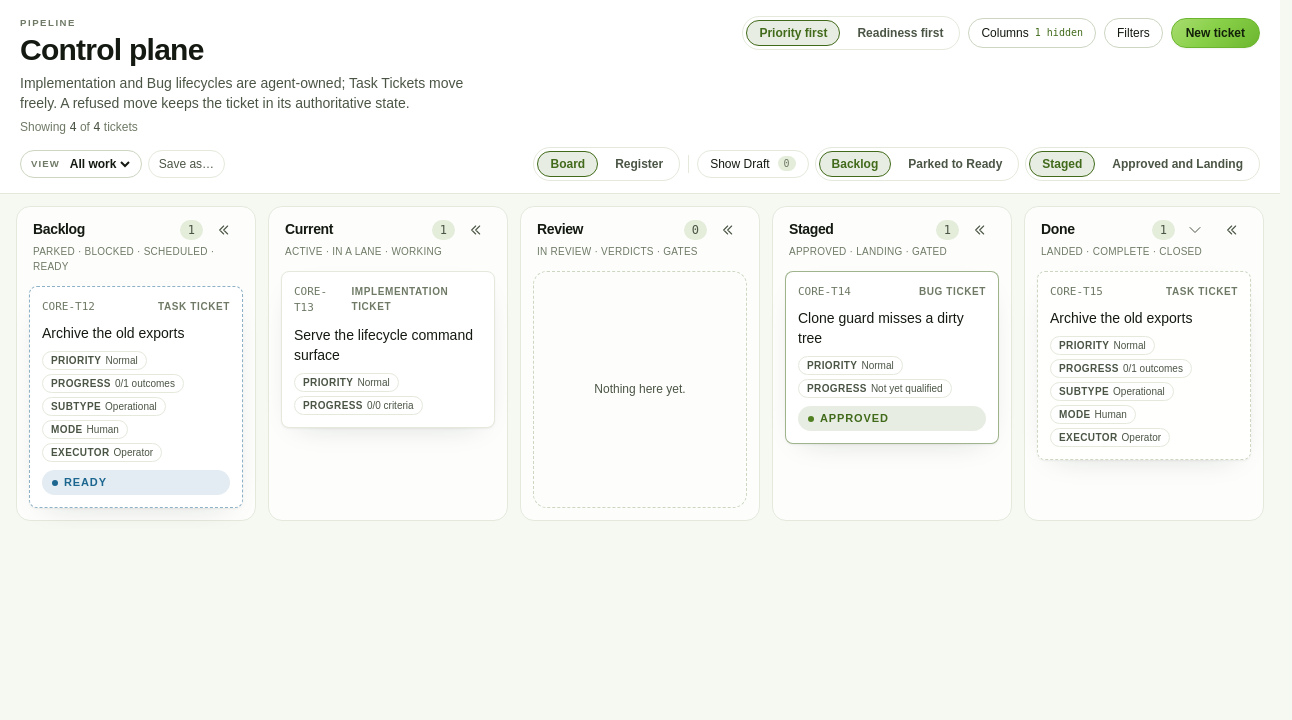
Scenario: the board › names expanded states under their group in the register
The image size is (1292, 720).
Click the button with test id "layout-axis-backlog-expanded" at (955, 164), box [895,151,1015,177]
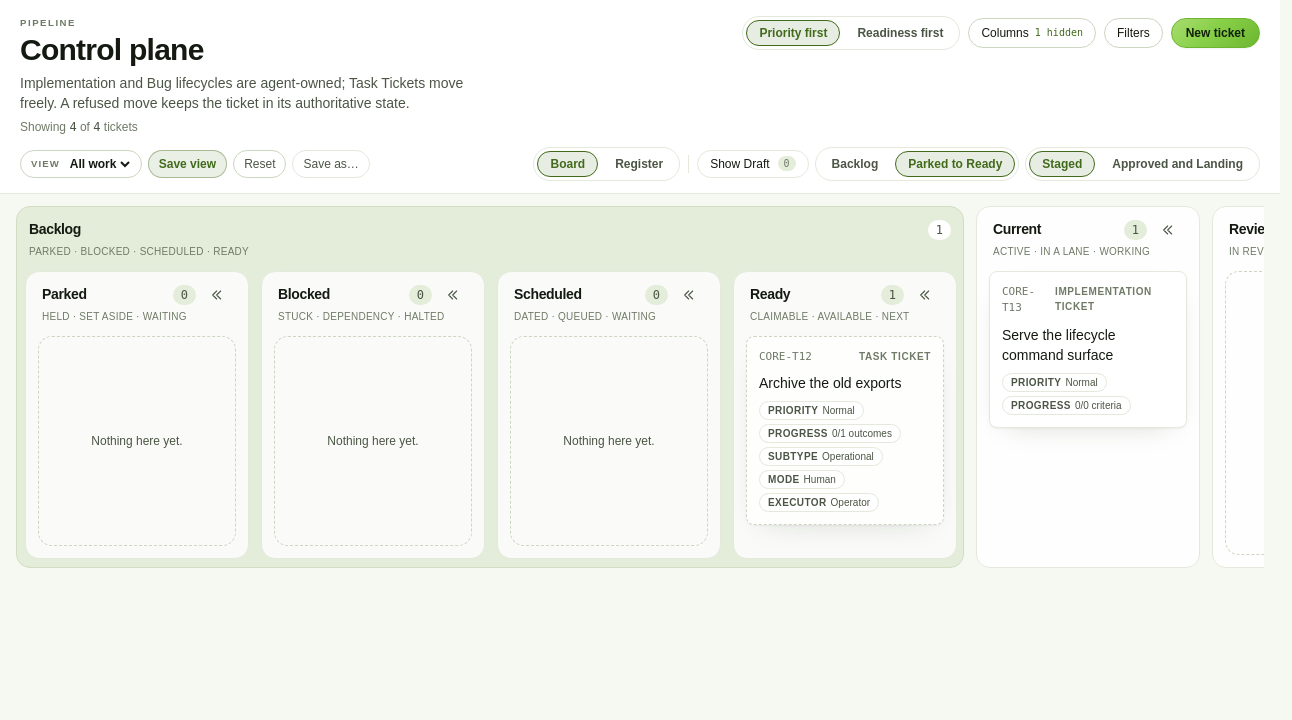
Click the button with test id "board-presentation-register" at (639, 164), box [602,151,676,177]
(page scrolled)
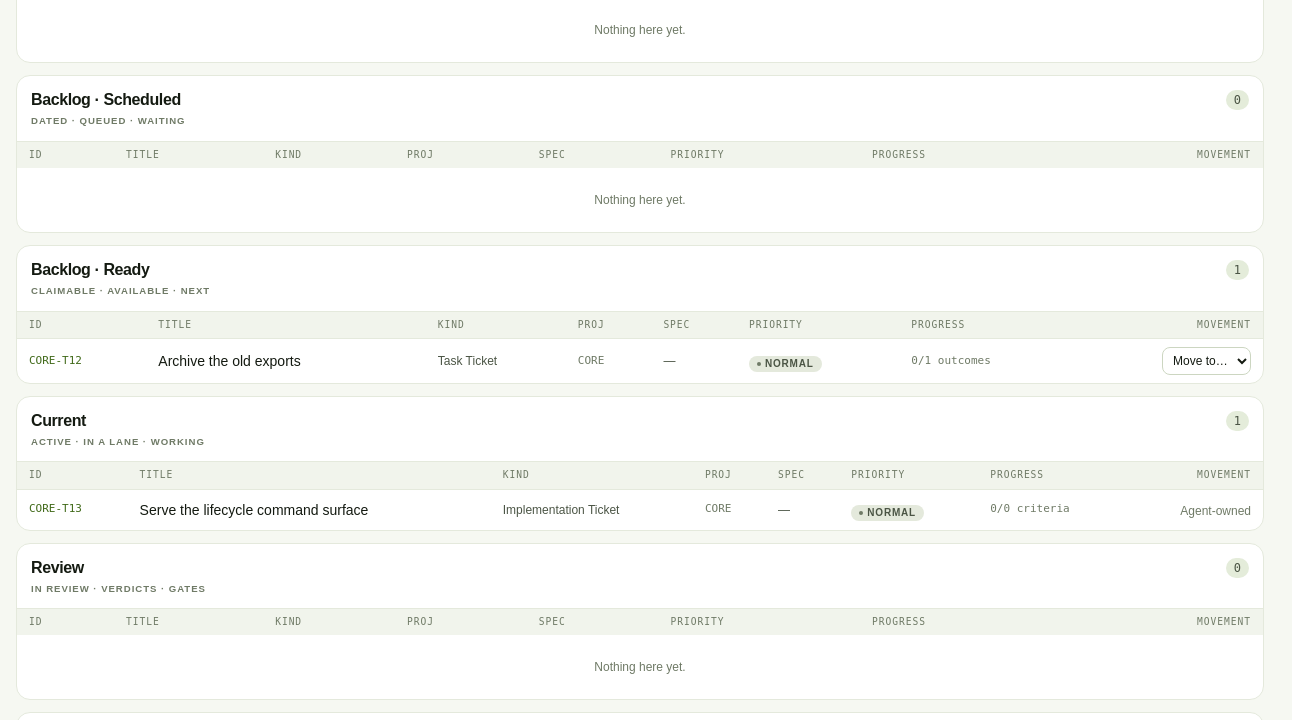
Result: the row with test id "register-row-7" is shown at [17,338,1263,383]
